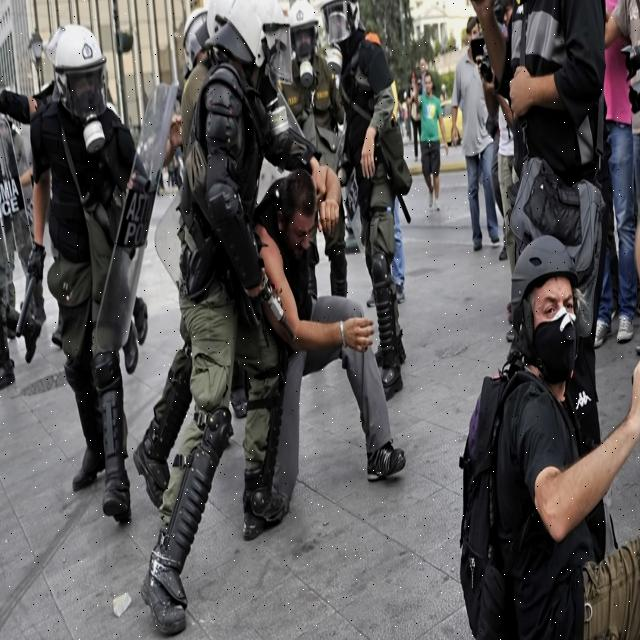police: (129, 0, 282, 632), (12, 0, 170, 526)
